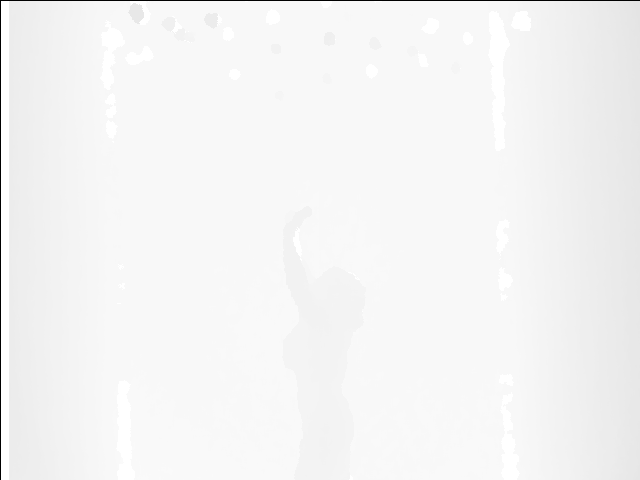hand: (280, 202, 315, 238)
